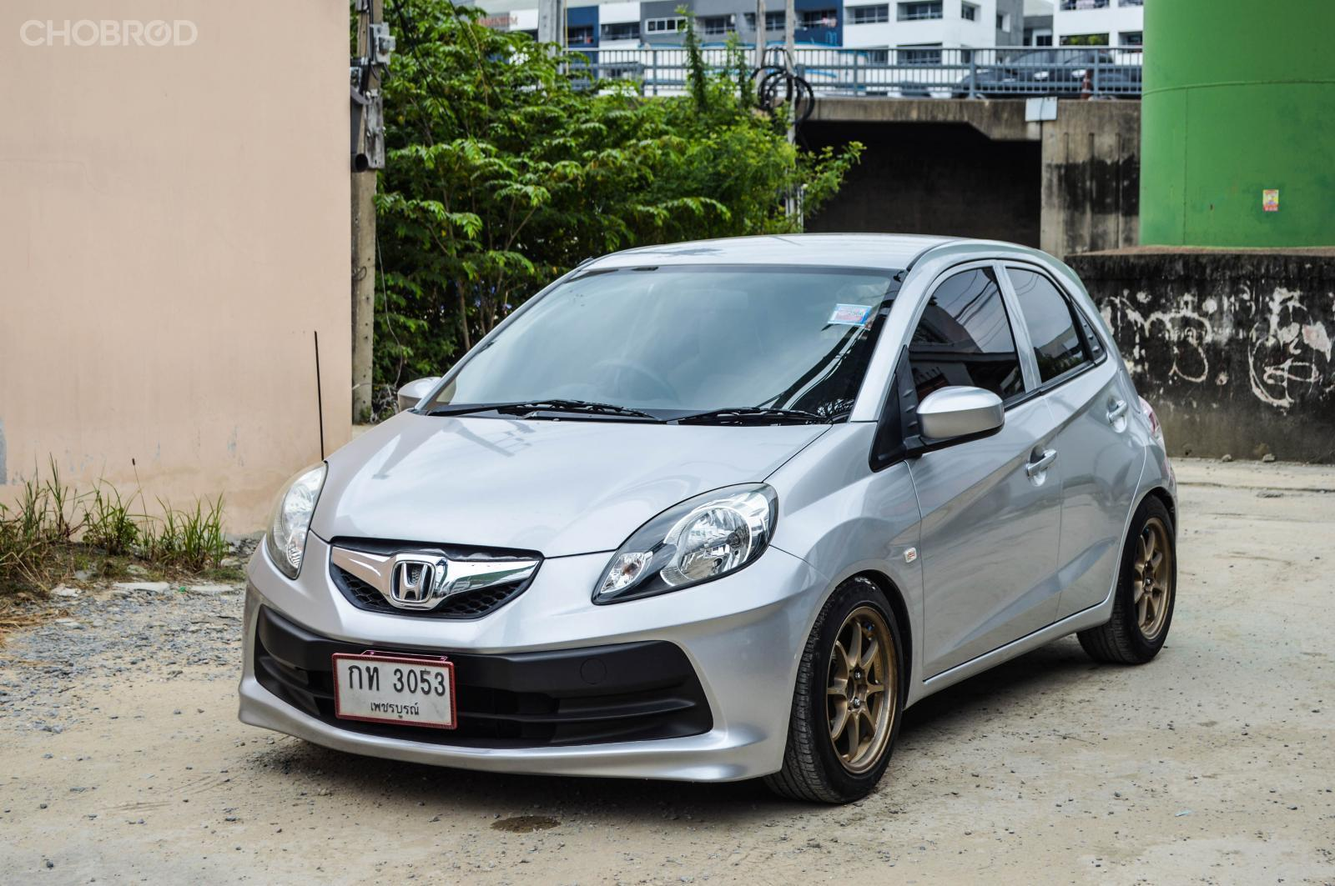license-plate: (326, 650, 462, 731)
